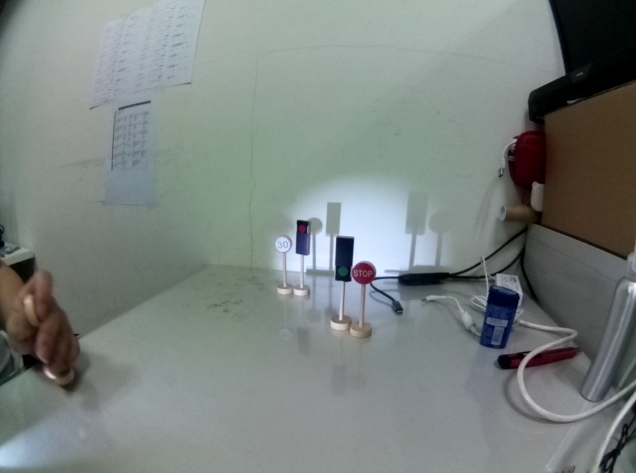Green: (331, 233, 353, 285)
Red: (294, 218, 310, 258)
Speed30: (273, 235, 292, 255)
Stop: (353, 257, 377, 287)
